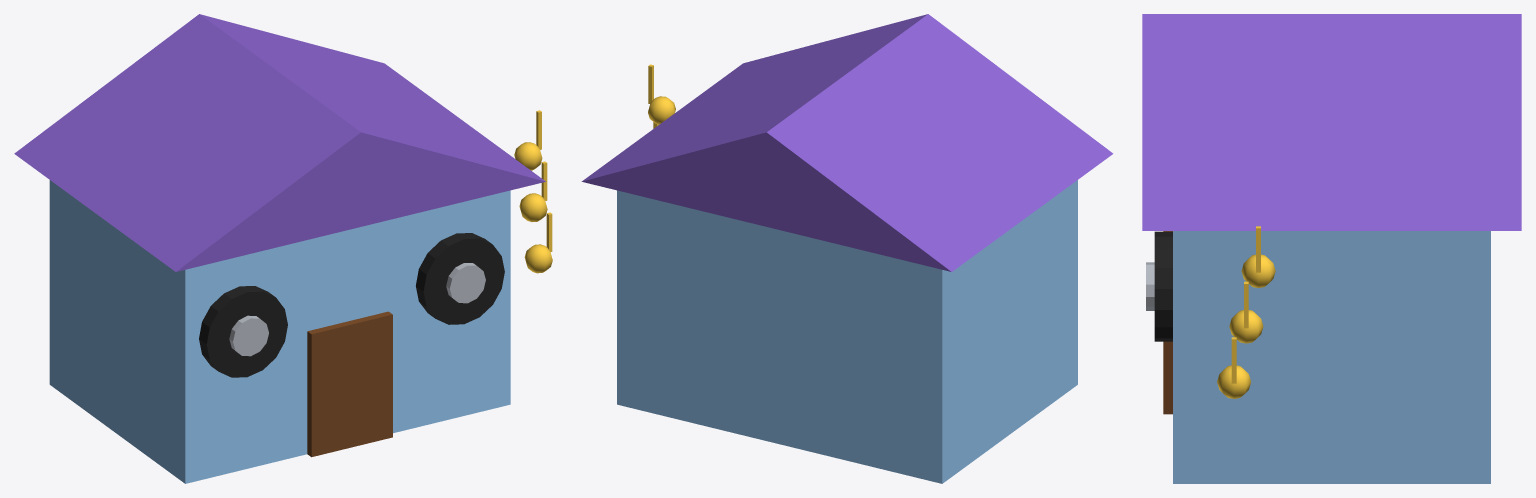
File: b_sound.glb
The picture shows the model from 3 angles, left to right: view 1: azimuth 30°, elevation 25°; view 2: azimuth 150°, elevation 25°; view 3: azimuth 270°, elevation 25°; orthographic projection. The views are drawn at different scales.
Visible parts, largest first — view 1: Roof, Walls, Door, Speaker.001, Speaker, Cone.001, Cone, Note, Note.001, Note.002; view 2: Walls, Roof, Note.002; view 3: Roof, Walls, Speaker.001, Note, Note.001, Note.002, Door, Cone.001.
Boxes of the visible parts, x1,y1,x2,y2 form: Roof: (14, 14, 545, 271); Walls: (49, 180, 510, 483); Door: (307, 311, 392, 457); Speaker.001: (416, 233, 504, 324); Speaker: (199, 286, 287, 377); Cone.001: (446, 263, 485, 303); Cone: (229, 315, 268, 356); Note: (524, 244, 552, 273); Note.001: (519, 193, 547, 221); Note.002: (514, 142, 542, 170); Walls: (617, 180, 1077, 483); Roof: (581, 14, 1113, 271); Note.002: (648, 96, 675, 124); Roof: (1142, 14, 1521, 230); Walls: (1173, 231, 1490, 483); Speaker.001: (1154, 231, 1172, 341); Note: (1217, 365, 1250, 398); Note.001: (1229, 310, 1263, 343); Note.002: (1241, 254, 1275, 287); Door: (1163, 231, 1172, 414); Cone.001: (1146, 262, 1154, 310).
Size of the model in its own units: 4.59 by 3.4 by 3.1.
